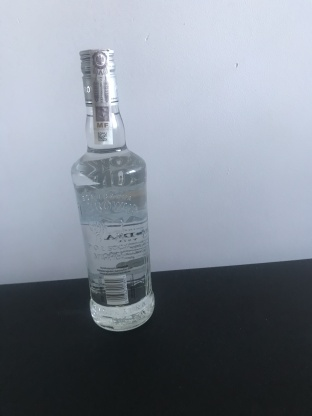nakretka: (77, 43, 120, 108)
